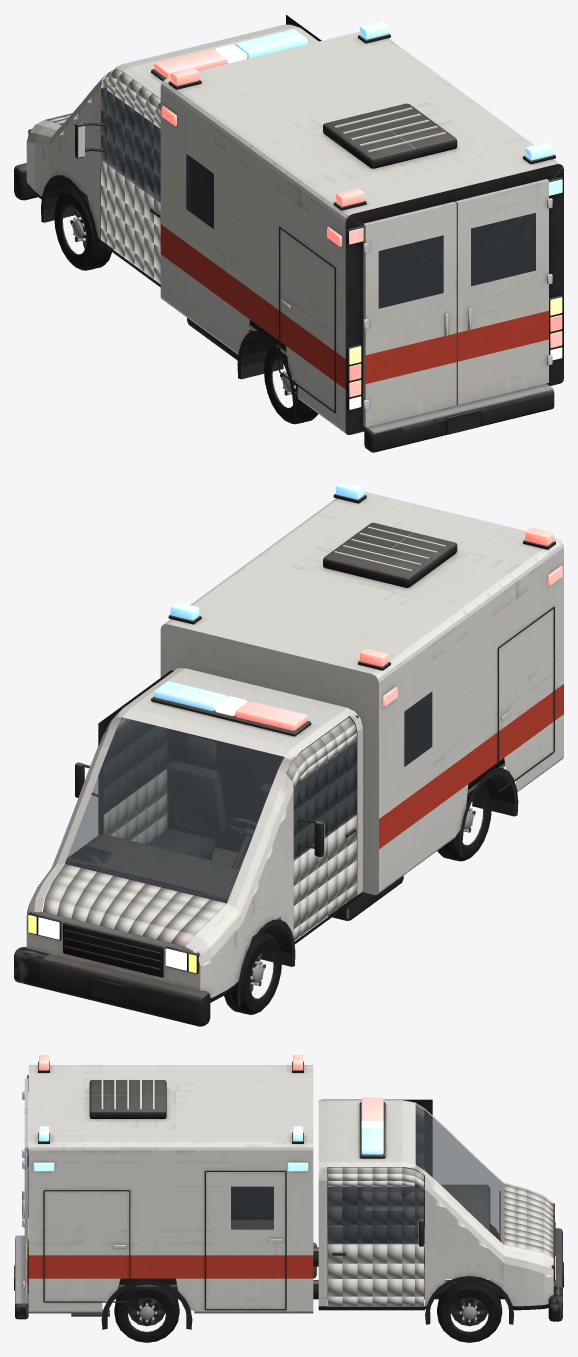
Rendered from ambulance.glb.
3 renders of one model, top to bottom at view 1: azimuth 30°, elevation 25°; view 2: azimuth 150°, elevation 25°; view 3: azimuth 270°, elevation 25°, orthographic. The views are drawn at different scales.
Visible parts, largest first — view 1: lod0, door_rear_l, door_rear_r, door_fl, bumper_r, wheel_fl_mesh, window_l, wheel_rl_mesh, bumper_f; view 2: lod0, window_front, door_fl, hood, door_fr, bumper_f, wheel_fl_mesh, window_l, wheel_rl_mesh; view 3: lod0, door_fr, window_front, wheel_fr, hood, wheel_rr, window_r, bumper_f, bumper_r, door_rear_r, door_fl.
Part boxes in pixels (x1,y1,x2,y2): lod0: (26, 15, 563, 434); door_rear_l: (363, 201, 456, 427); door_rear_r: (455, 179, 552, 404); door_fl: (75, 69, 160, 283); bumper_r: (364, 383, 554, 452); wheel_fl_mesh: (54, 188, 112, 270); window_l: (186, 154, 213, 228); wheel_rl_mesh: (264, 346, 318, 424); bumper_f: (14, 163, 59, 200); lod0: (26, 481, 563, 1007); window_front: (65, 717, 283, 902); door_fl: (286, 717, 356, 940); hood: (43, 864, 225, 946); door_fr: (75, 711, 166, 844); bumper_f: (14, 947, 210, 1026); wheel_fl_mesh: (224, 932, 281, 1014); window_l: (404, 692, 432, 766); wheel_rl_mesh: (437, 783, 491, 861); lod0: (26, 1055, 555, 1329); door_fr: (327, 1167, 424, 1305); window_front: (415, 1104, 503, 1244); wheel_fr: (437, 1280, 502, 1342); hood: (504, 1184, 553, 1257); wheel_rr: (114, 1286, 179, 1342); window_r: (231, 1186, 273, 1229); bumper_f: (548, 1228, 563, 1321); bumper_r: (14, 1235, 28, 1319); door_rear_r: (22, 1113, 28, 1302); door_fl: (328, 1104, 424, 1175).
Size of what is drawn, in the model's own units: 2.56 by 2.76 by 6.41.
12 materials, 11 textured.
